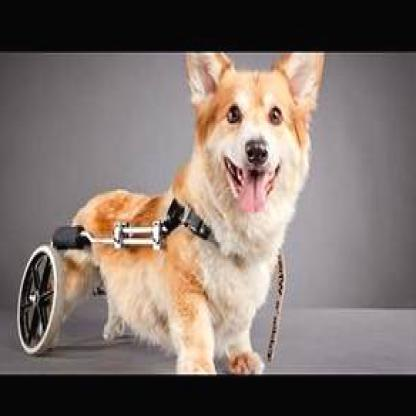dog: (60, 51, 328, 374)
